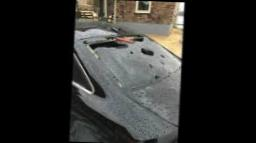Windshield: (88, 34, 182, 92)
